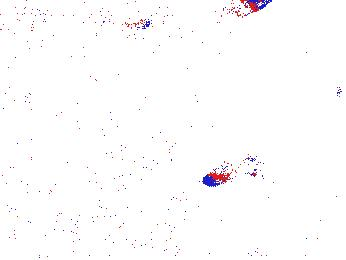X-ray fish: (1, 1, 58, 36), (223, 1, 272, 16)
red belly glassfish: (202, 157, 247, 188), (95, 8, 151, 31)
